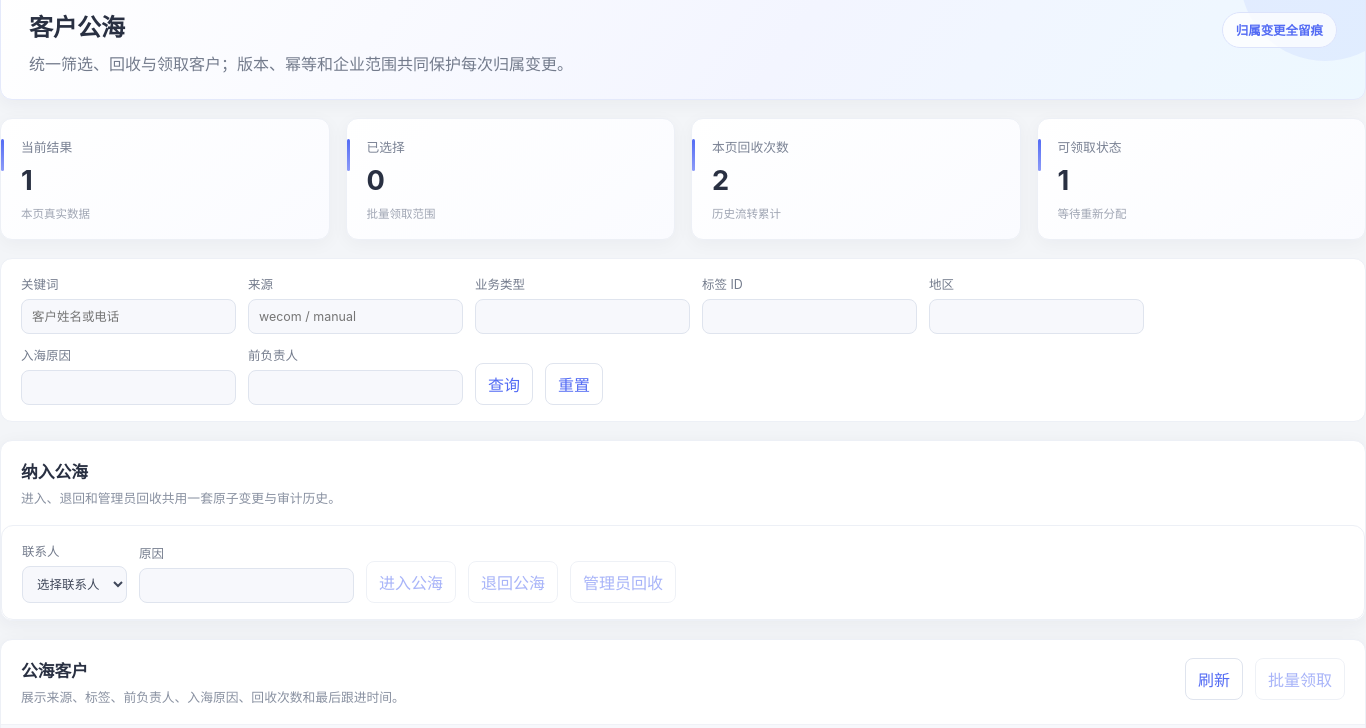
PublicPoolPage › syncs filters, reset and pagination through the URL
This screenshot has width=1366, height=728.
Type " Grace " into the field named "公海关键词" at x=128, y=316, box x1=21 y1=299 x2=236 y2=334
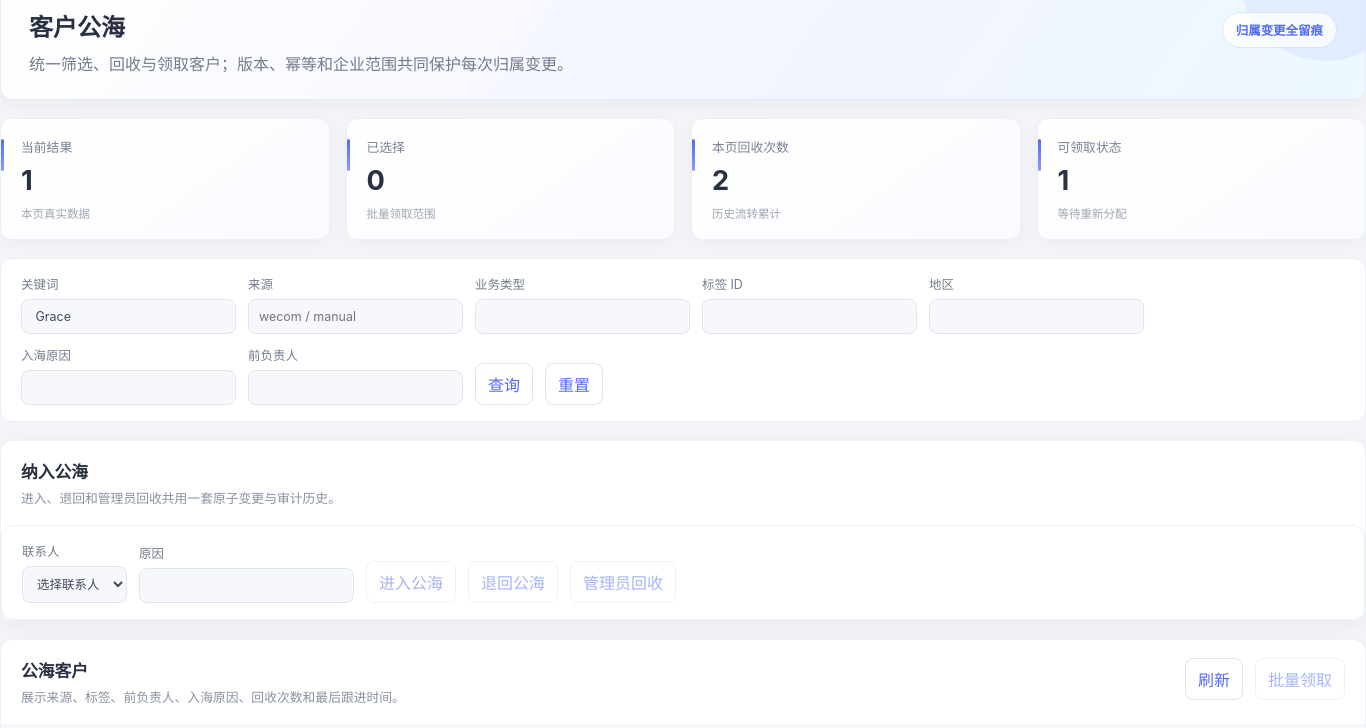
Type "manual" into the field named "来源筛选" at x=356, y=316, box x1=248 y1=299 x2=463 y2=334
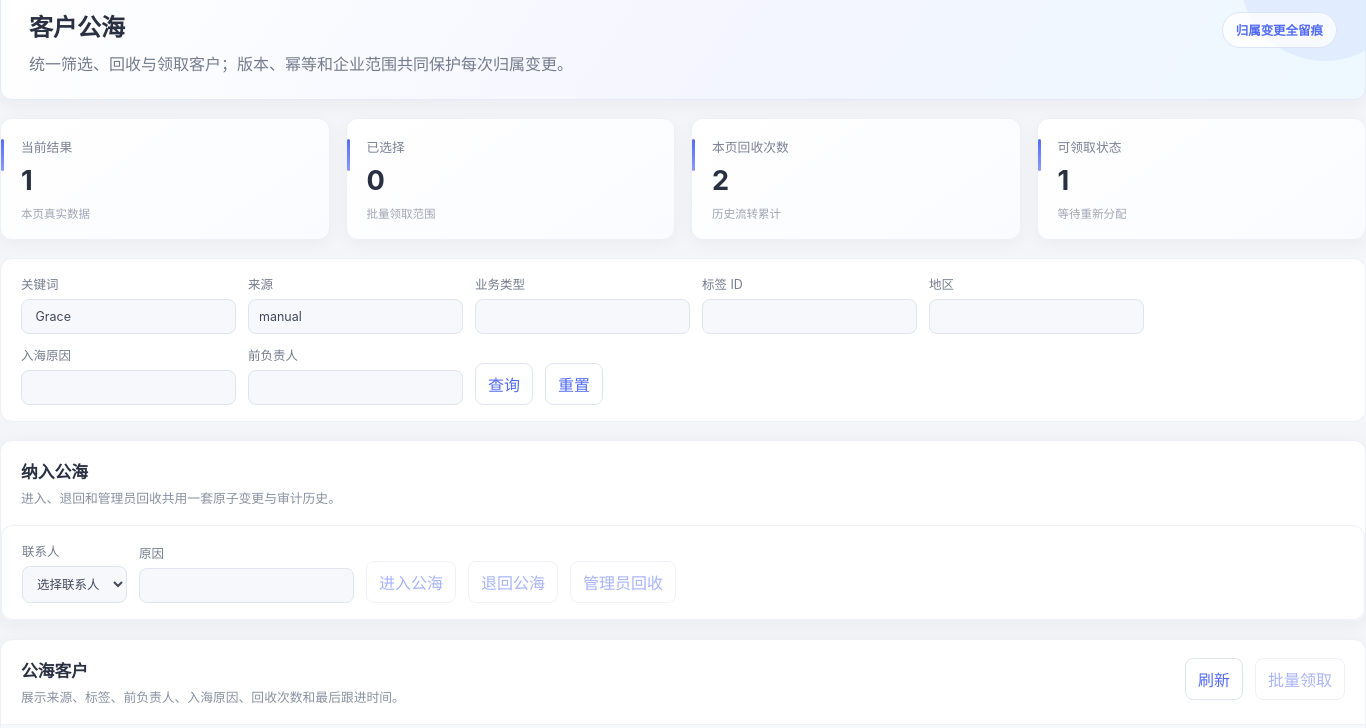
Click the button "查询" at x=504, y=384, box x1=475 y1=363 x2=533 y2=405
(page scrolled)
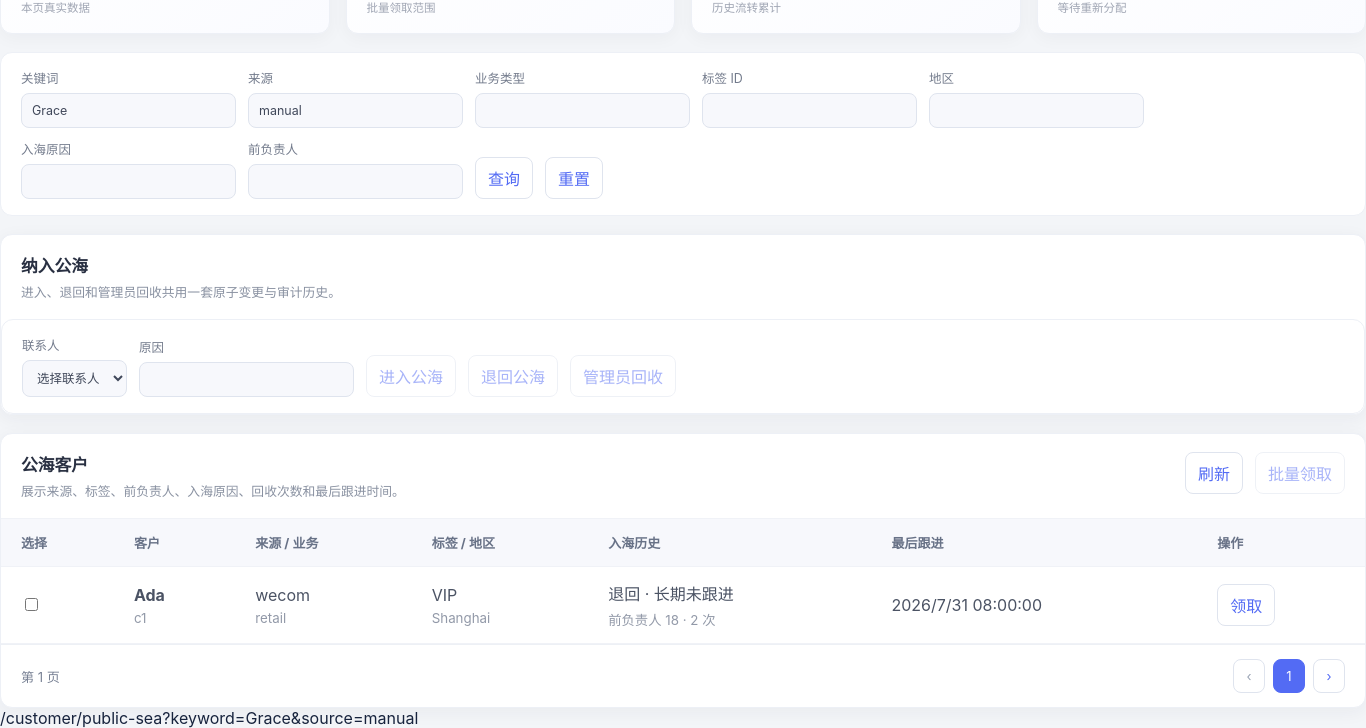
Expected: the text named "current-url" shows "?keyword=Grace&source=manual", x1=162 y1=708 x2=418 y2=727
Click the button named "下一页" at x=1329, y=676, box x1=1313 y1=659 x2=1345 y2=693
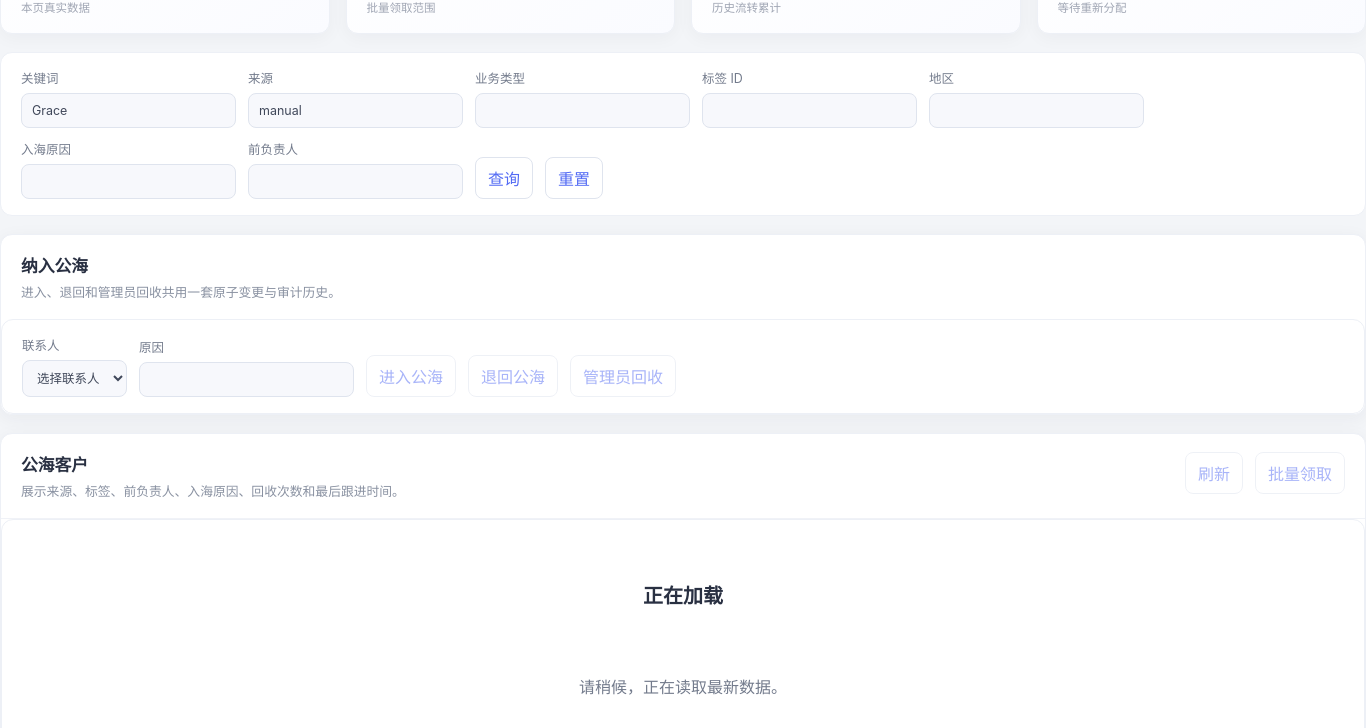
Click the button "重置" at x=574, y=178, box x1=545 y1=157 x2=603 y2=199
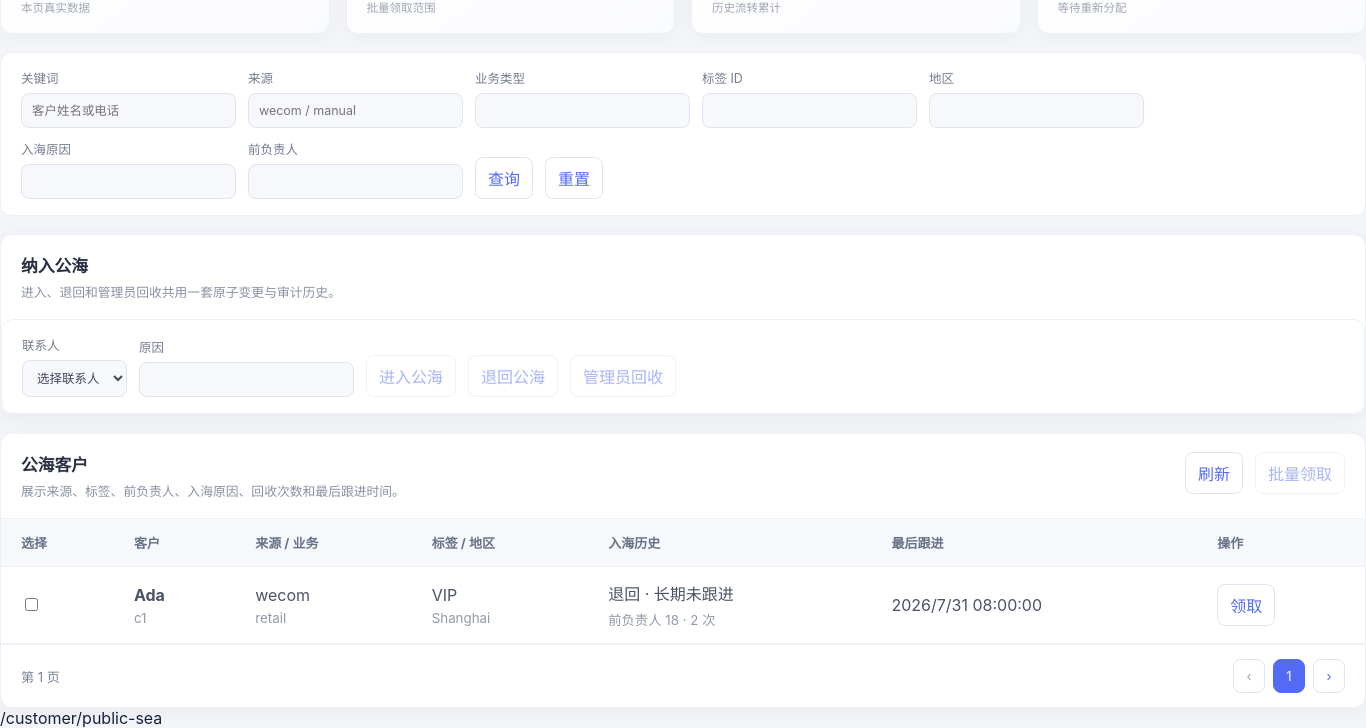
Expected: the text named "current-url" reads "/customer/public-sea", x1=0 y1=708 x2=162 y2=727
